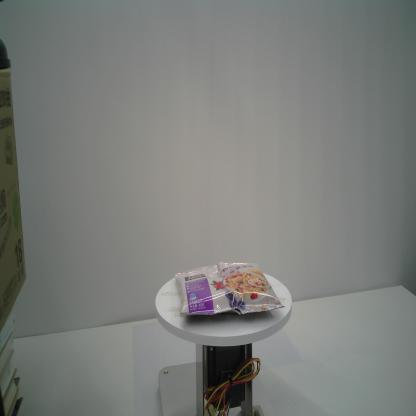Instant Drink: (174, 261, 285, 318)
